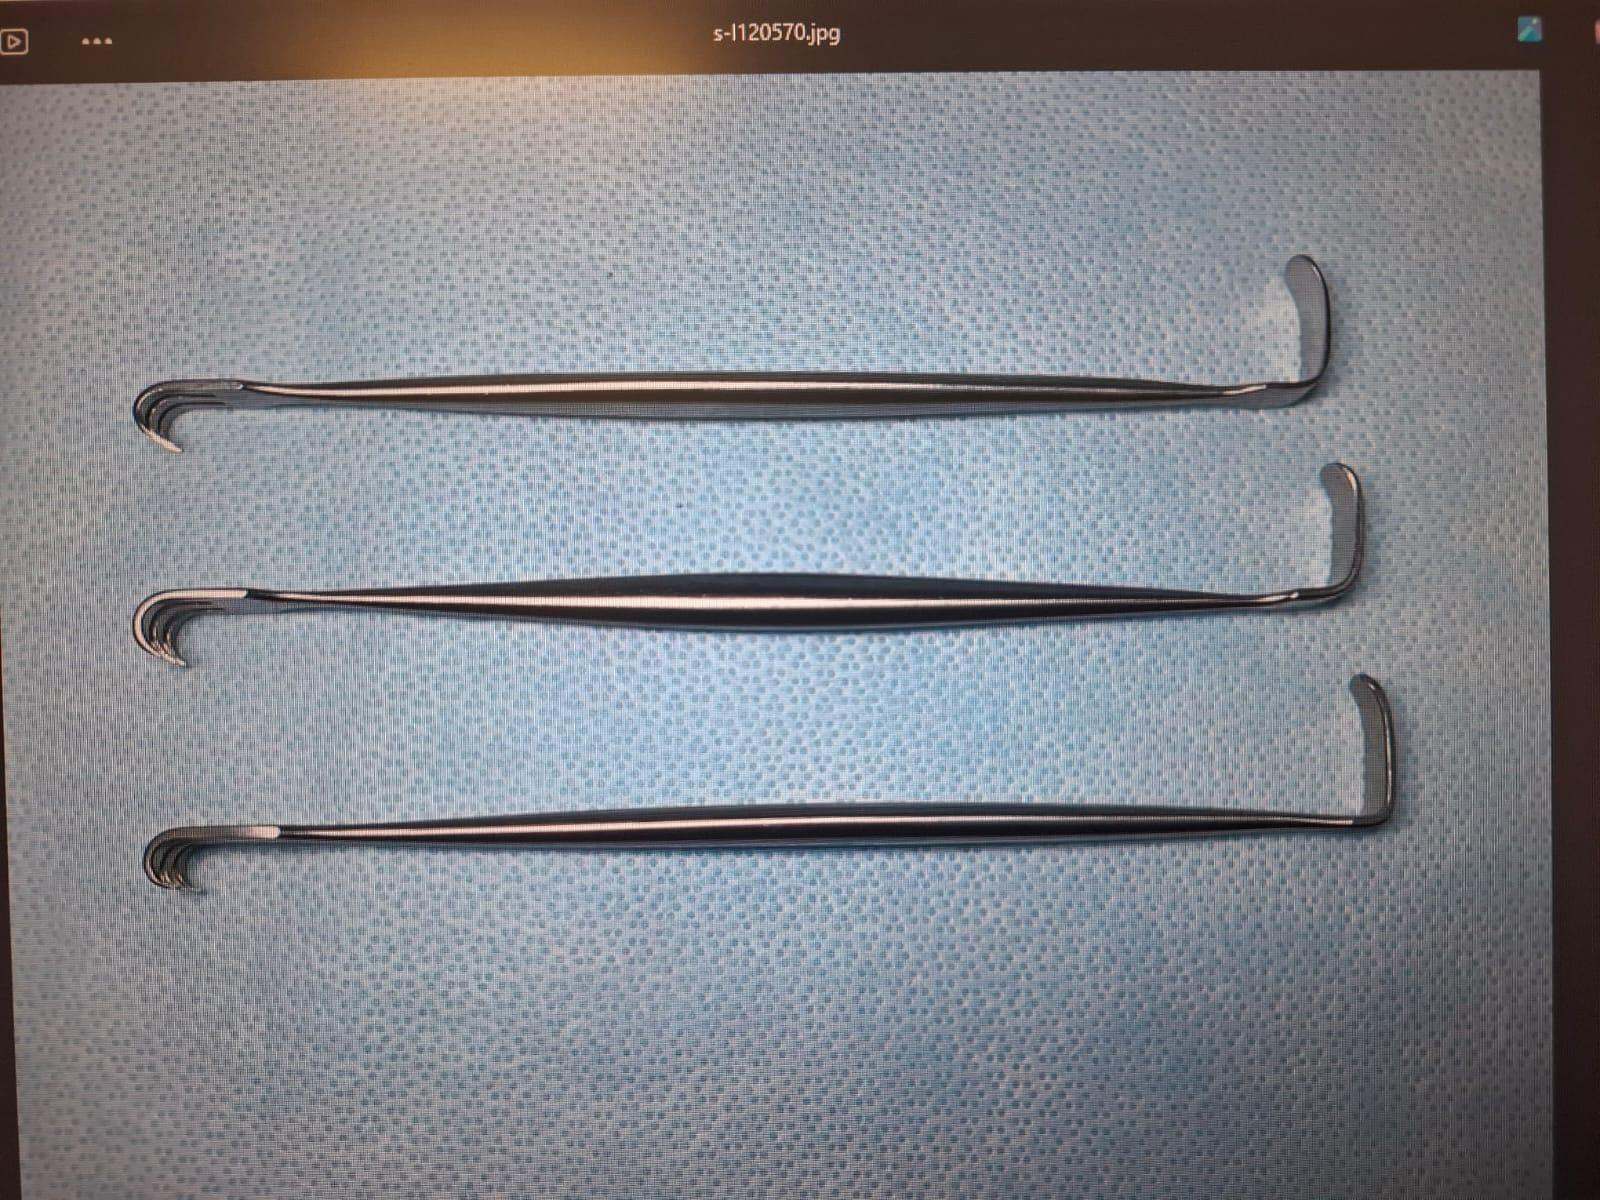Senn Retractor: (120, 671, 1420, 930), (120, 238, 1351, 500), (129, 454, 1398, 705)
